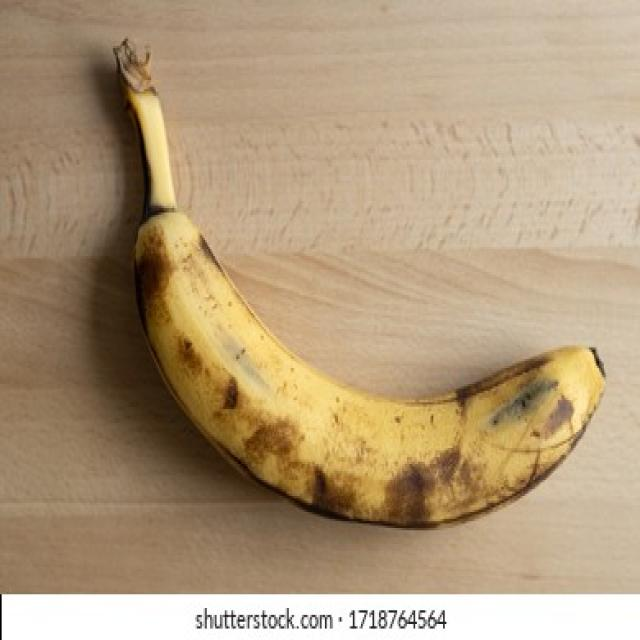banana: (110, 35, 610, 532)
